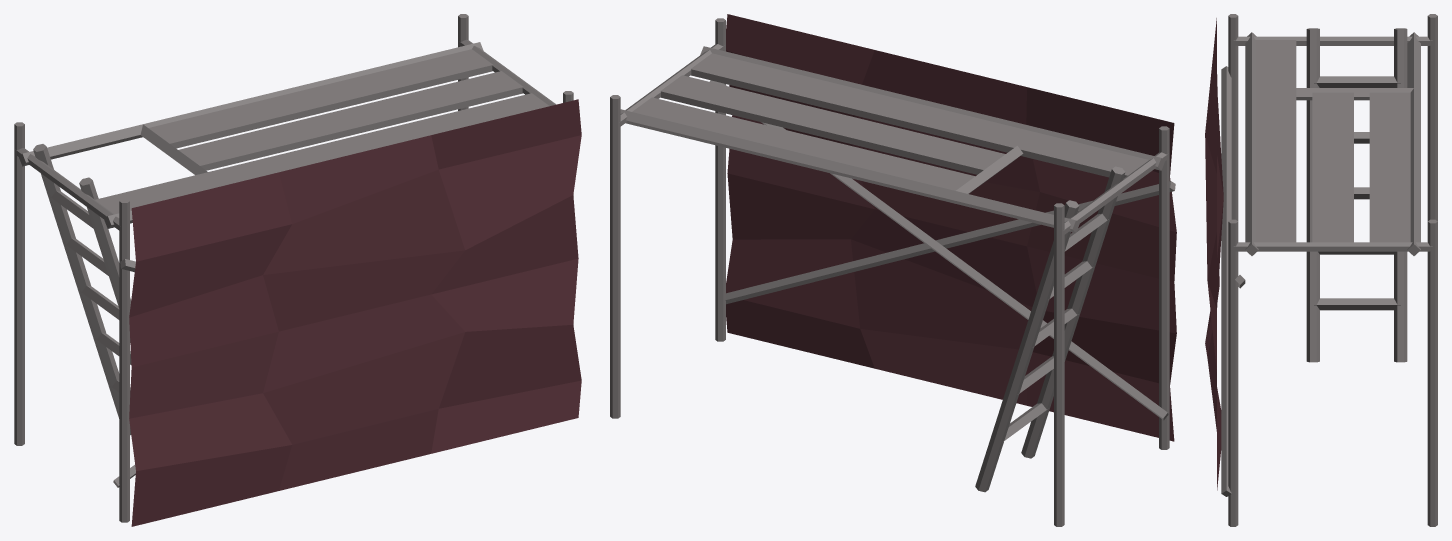
File: scaffolding-ladder-covered.fbx
The picture shows the model from 3 angles, left to right: view 1: azimuth 30°, elevation 25°; view 2: azimuth 150°, elevation 25°; view 3: azimuth 270°, elevation 25°; orthographic projection. The views are drawn at different scales.
Visible parts, largest first — view 1: scaffolding-ladder-covered; view 2: scaffolding-ladder-covered; view 3: scaffolding-ladder-covered.
Part boxes in pixels (x1=…): scaffolding-ladder-covered: x1=14, y1=14, x2=581, y2=526; scaffolding-ladder-covered: x1=610, y1=14, x2=1176, y2=526; scaffolding-ladder-covered: x1=1205, y1=14, x2=1437, y2=526.
Size of the model in its own units: 3.01 by 2.01 by 1.39.
